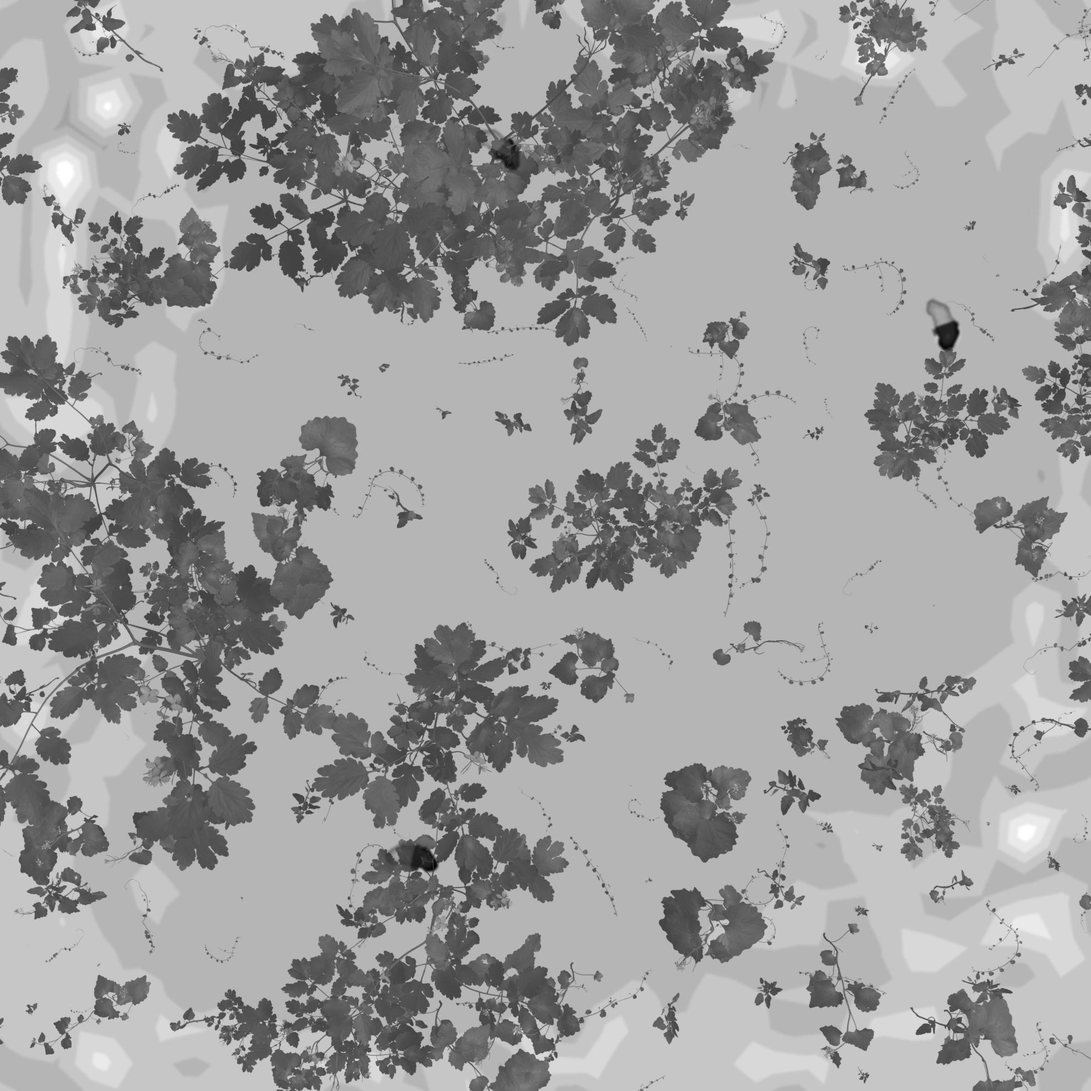landmine: (380, 839, 440, 877), (922, 295, 960, 355)
